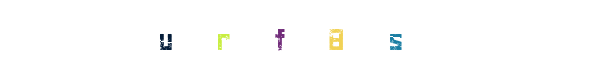8: (262, 0, 342, 80)
F: (259, 0, 339, 80)
R: (204, 0, 284, 80)
S: (354, 0, 434, 80)
U: (125, 0, 205, 80)
